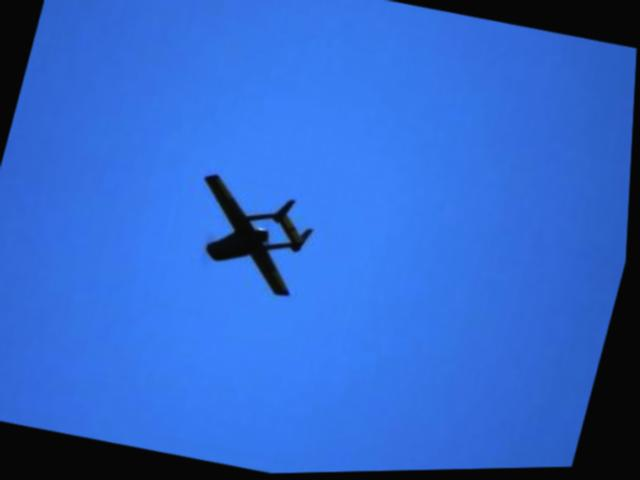uav: (175, 165, 327, 309)
